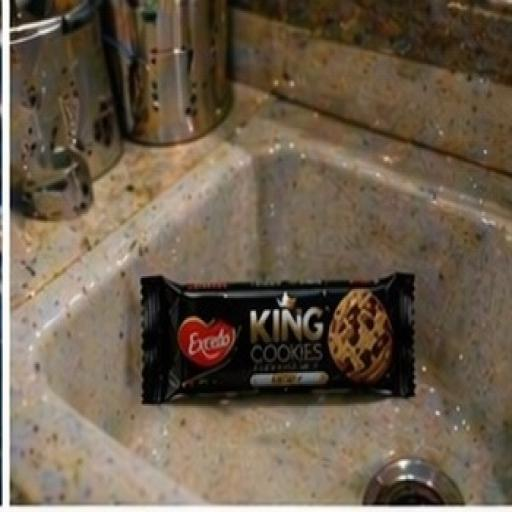king_cooking: (117, 209, 448, 432)
